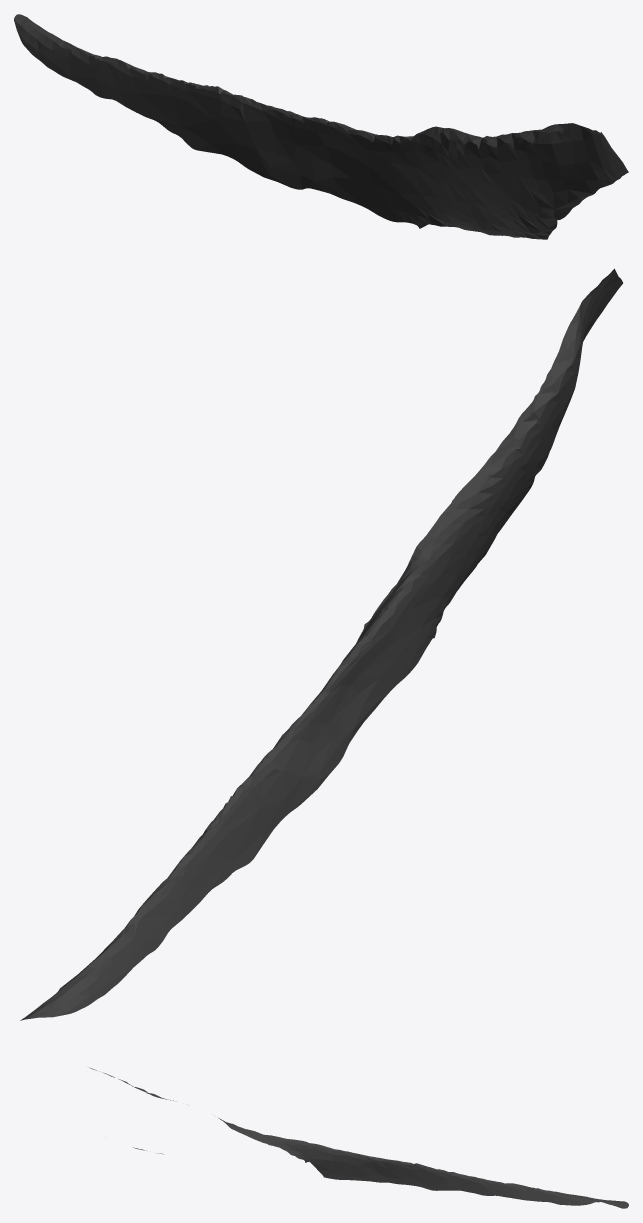
Rendered from musc_flex_carp_ulnaris_ulnar_hd.glb.
3 views of the same model, one above another, from view 1: azimuth 30°, elevation 25°; view 2: azimuth 150°, elevation 25°; view 3: azimuth 270°, elevation 25° (orthographic). The views are drawn at different scales.
Parts seen in each view (by area): view 1: musc_flex_carp_ulnaris_ulnar_hd; view 2: musc_flex_carp_ulnaris_ulnar_hd; view 3: musc_flex_carp_ulnaris_ulnar_hd.
Boxes of the visible parts, x1=… form: musc_flex_carp_ulnaris_ulnar_hd: x1=14, y1=14, x2=628, y2=239; musc_flex_carp_ulnaris_ulnar_hd: x1=20, y1=268, x2=622, y2=1020; musc_flex_carp_ulnaris_ulnar_hd: x1=89, y1=1067, x2=628, y2=1208.
Size of the model in its own units: 0.0146 by 0.0778 by 0.269.
Materials: 1 (1 with a texture image).
